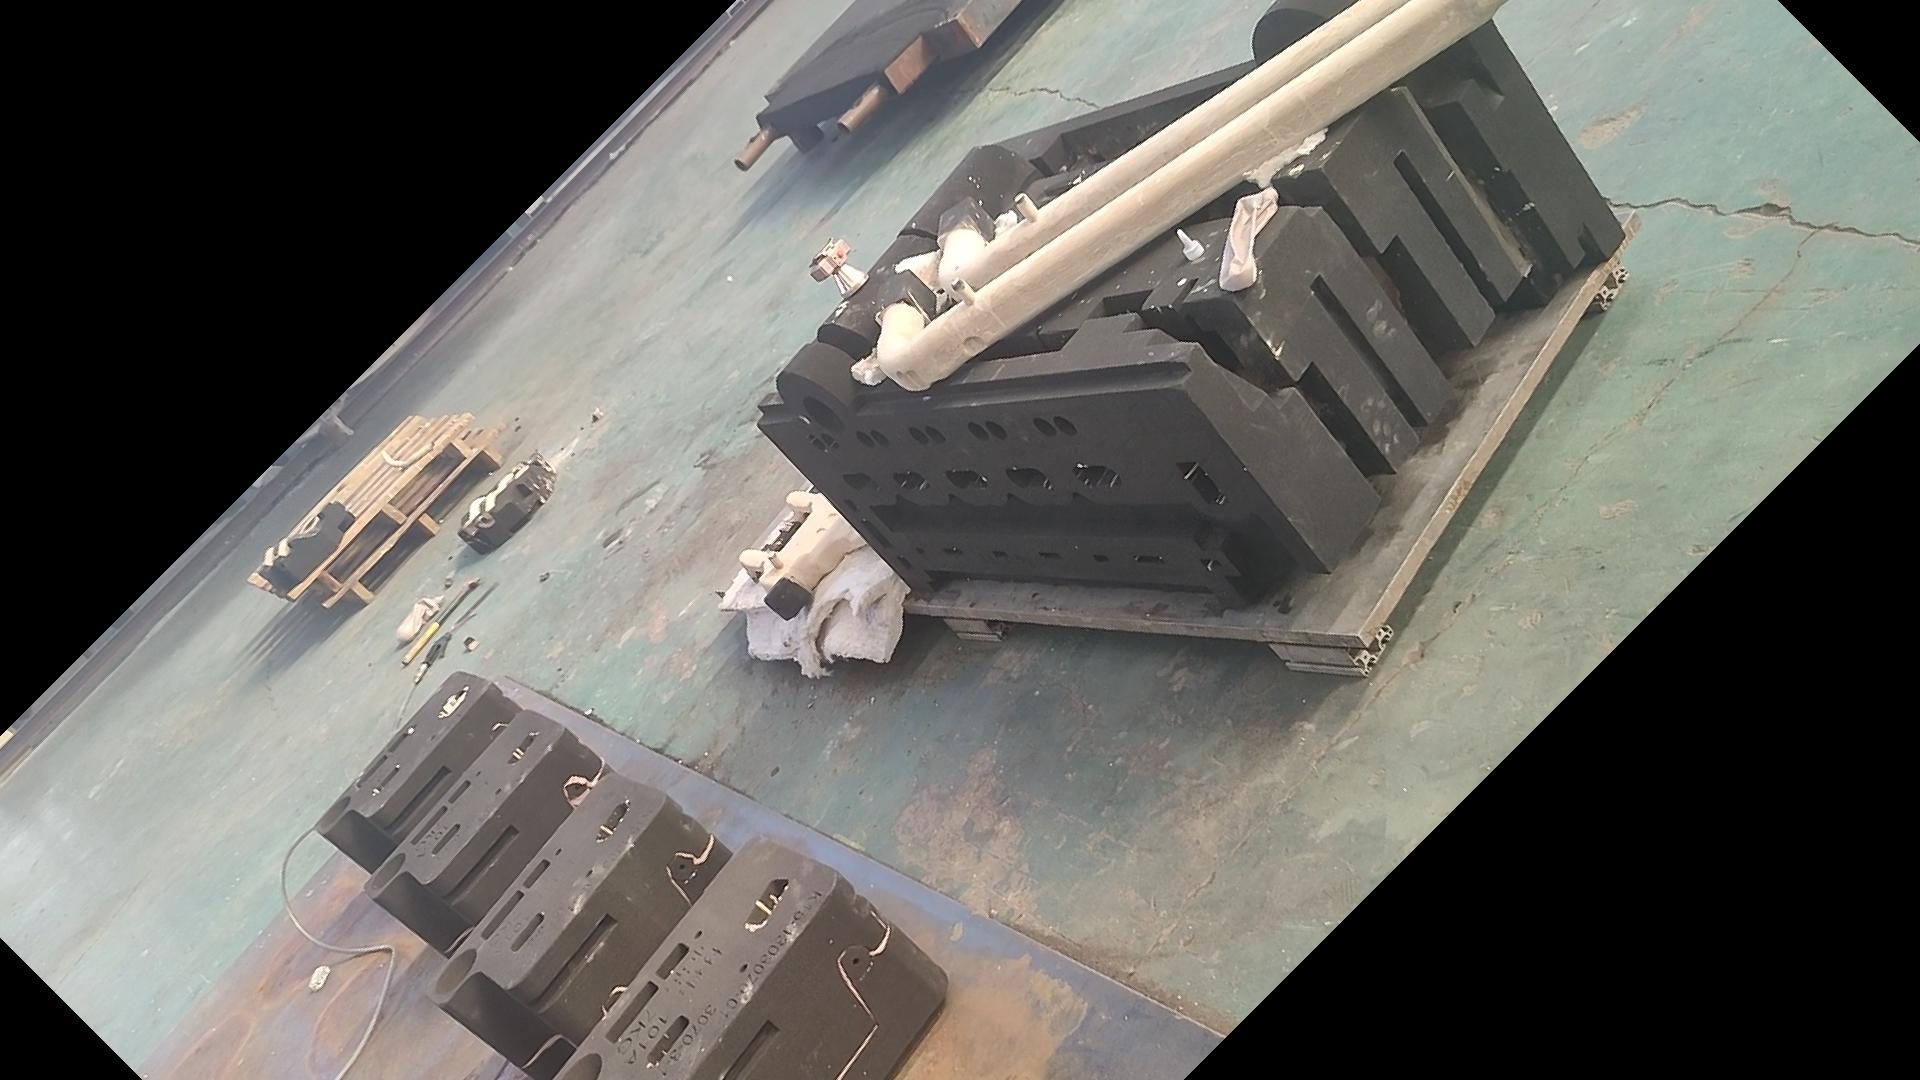pouring hole: (433, 949, 477, 1001), (804, 394, 845, 436), (369, 852, 406, 897), (558, 1054, 603, 1080), (315, 796, 351, 829)
